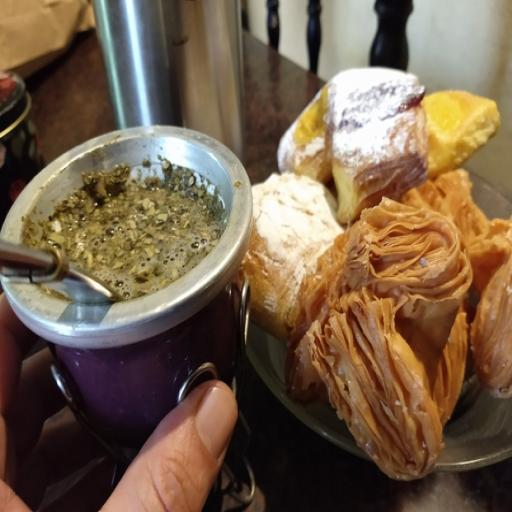bolleria: (288, 199, 471, 471), (279, 69, 428, 223), (237, 174, 343, 339), (424, 91, 500, 177)
mate: (2, 127, 251, 446)
